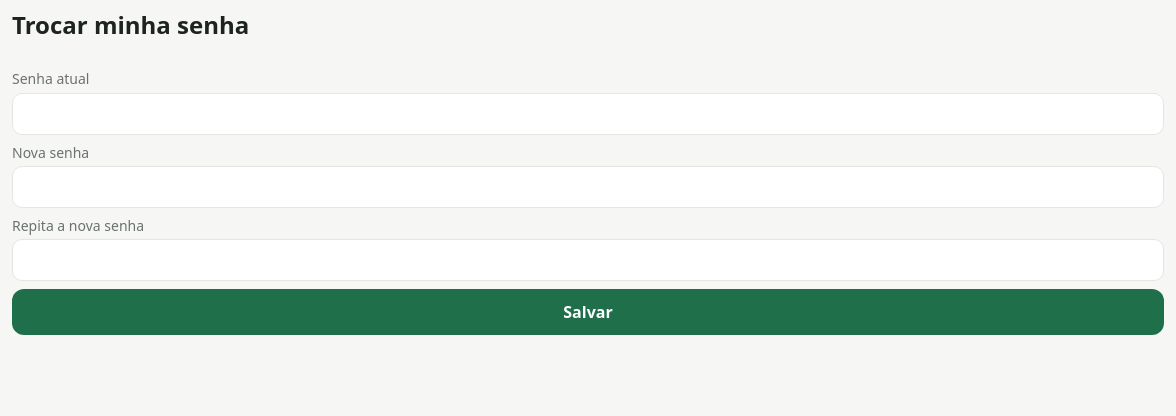
Test: TrocarSenha — voluntária (P2) › exige que a nova seja diferente da atual
The width and height of the screenshot is (1176, 416).
In the password field labelled "Senha atual": (588, 114) [12,93,1164,135], type "igualigual"
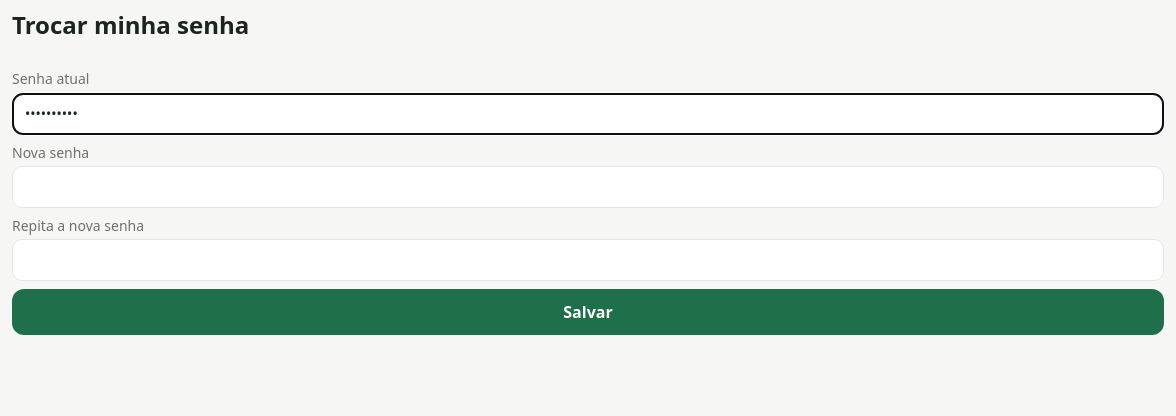
In the password field labelled "Nova senha": (588, 187) [12,166,1164,208], type "igualigual"
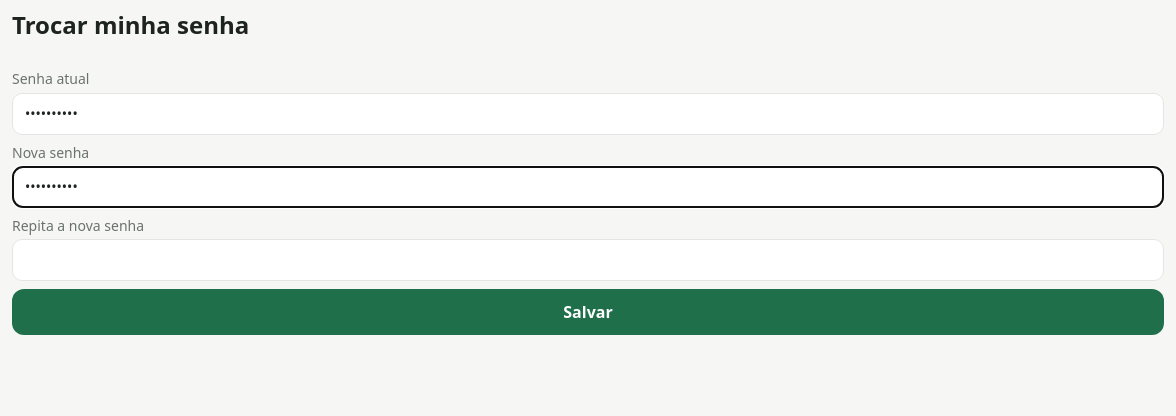
In the password field labelled "Repita a nova senha": (588, 260) [12,239,1164,281], type "igualigual"
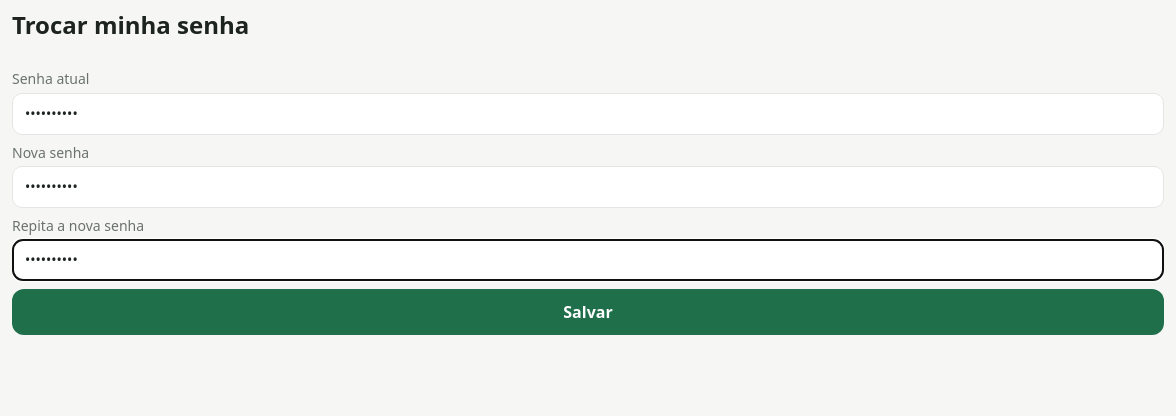
Click the button "Salvar": (588, 312) [12,289,1164,335]
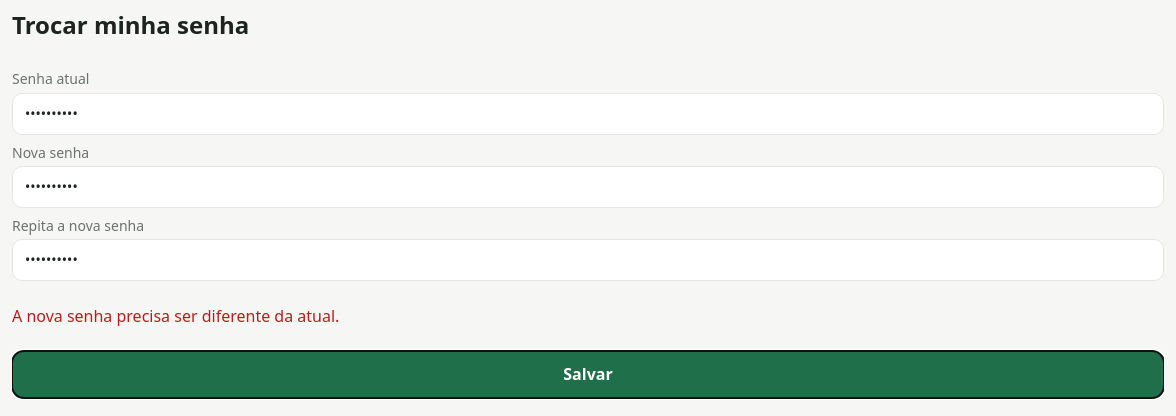
Expected: the text "A nova senha precisa ser diferente da atual." is shown, [12,305,339,327]
